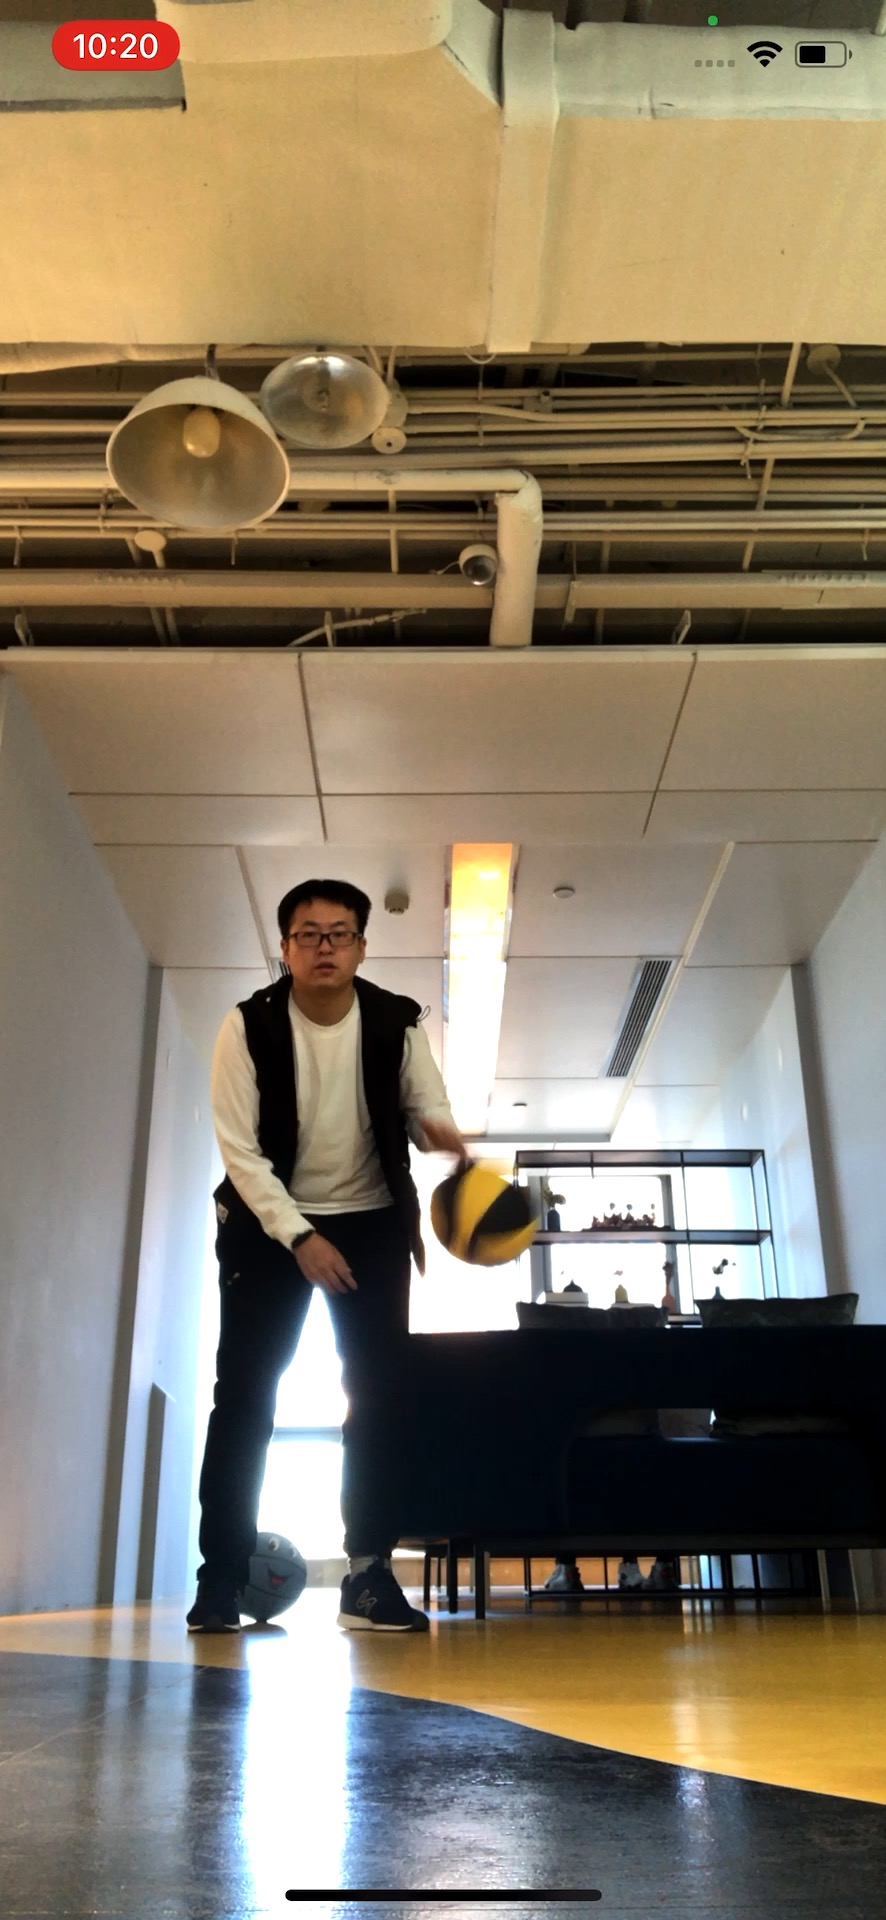ball: (430, 1161, 538, 1278), (235, 1529, 310, 1621)
